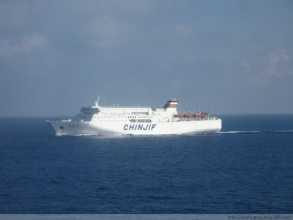warship: (47, 90, 226, 136)
